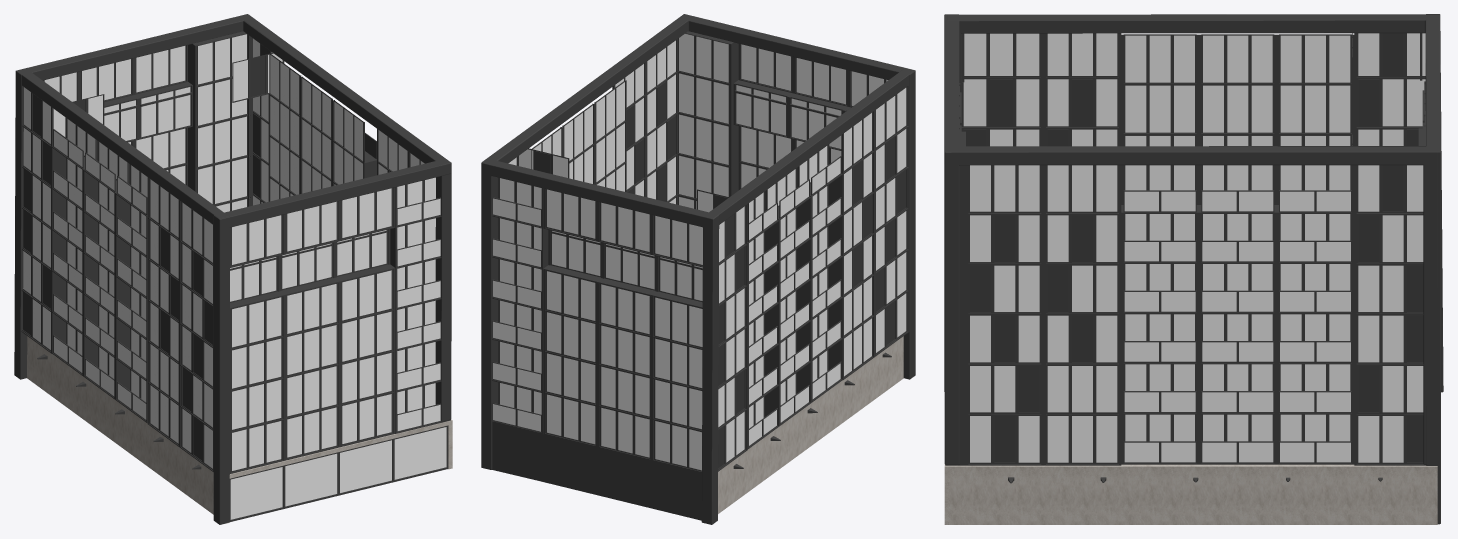
The model's file is city_19.gltf.
3 views of the same model, side by side, from view 1: azimuth 30°, elevation 25°; view 2: azimuth 150°, elevation 25°; view 3: azimuth 270°, elevation 25° (orthographic). The views are drawn at different scales.
Visible parts, largest first — view 1: city_19; view 2: city_19; view 3: city_19.
Boxes of the visible parts, x1=… form: city_19: x1=14, y1=14, x2=452, y2=524; city_19: x1=481, y1=14, x2=915, y2=524; city_19: x1=944, y1=14, x2=1443, y2=524.
Size of the model in its own units: 17.42 by 20.81 by 25.27.
Materials: 5 (1 with a texture image).
